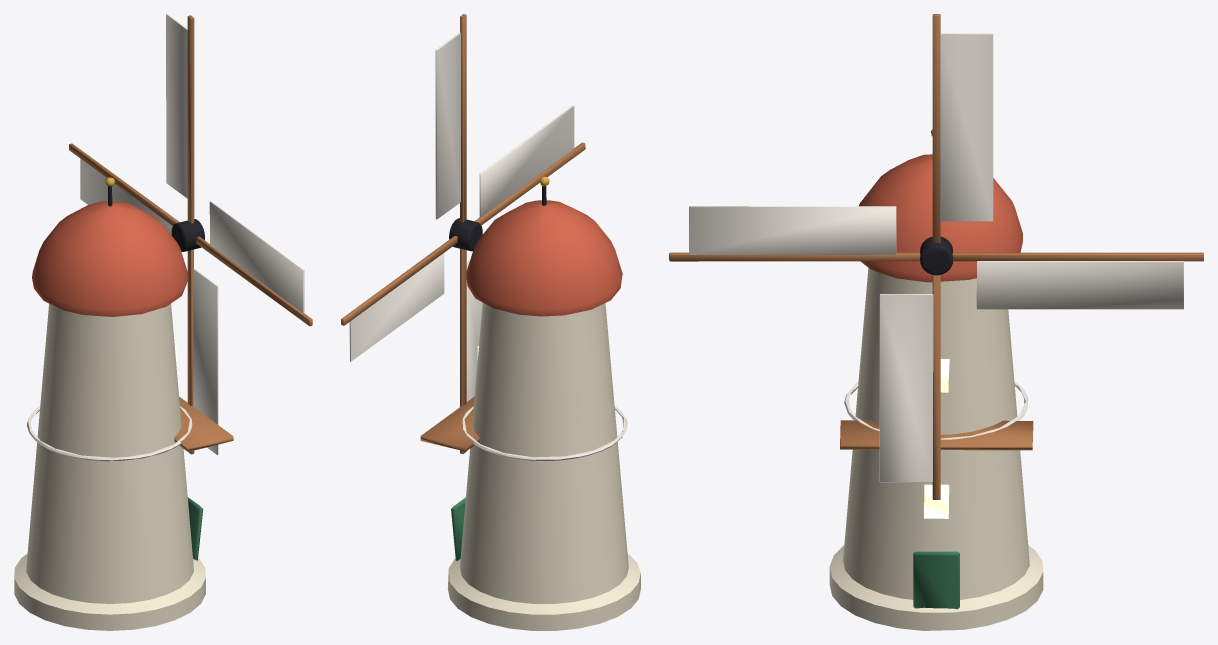
File: windmill.glb
The picture shows the model from 3 angles, left to right: view 1: azimuth 30°, elevation 25°; view 2: azimuth 150°, elevation 25°; view 3: azimuth 270°, elevation 25°; orthographic projection. The views are drawn at different scales.
Parts seen in each view (by area): view 1: windmill.005, blades.005; view 2: windmill.005, blades.005; view 3: windmill.005, blades.005.
Part boxes in pixels (left/top/right/bottom): windmill.005: left=14, top=177, right=233, bottom=630; blades.005: left=69, top=14, right=312, bottom=454; windmill.005: left=420, top=176, right=640, bottom=630; blades.005: left=341, top=14, right=585, bottom=453; windmill.005: left=829, top=129, right=1043, bottom=630; blades.005: left=669, top=14, right=1203, bottom=499.
Size of the model in its own units: 6.59 by 20.3 by 15.99.
Materials: 1 (1 with a texture image).
